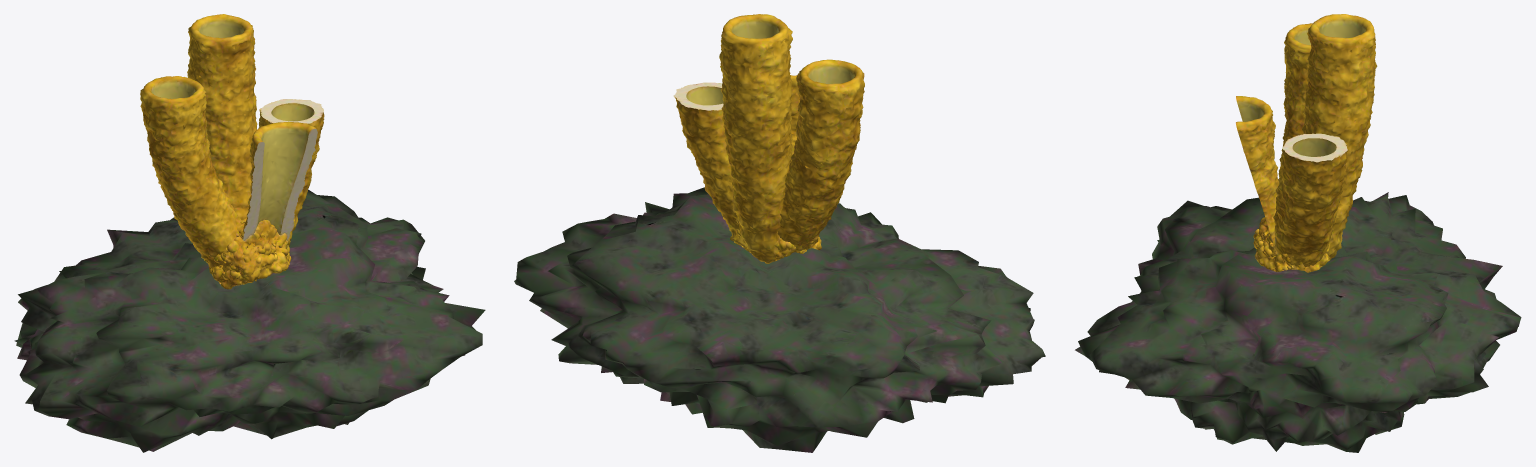
File: porifera-corte.glb
The picture shows the model from 3 angles, left to right: view 1: azimuth 30°, elevation 25°; view 2: azimuth 150°, elevation 25°; view 3: azimuth 270°, elevation 25°; orthographic projection. The views are drawn at different scales.
Visible parts, largest first — view 1: Roca, Esponja; view 2: Roca, Esponja; view 3: Roca, Esponja.
Part boxes in pixels (x1=…): Roca: x1=14, y1=189, x2=485, y2=452; Esponja: x1=140, y1=14, x2=324, y2=289; Roca: x1=514, y1=187, x2=1045, y2=452; Esponja: x1=673, y1=14, x2=864, y2=263; Roca: x1=1075, y1=192, x2=1521, y2=452; Esponja: x1=1236, y1=14, x2=1377, y2=272.
Size of the model in its own units: 1.24 by 0.9822 by 1.06.
Materials: 2 (2 with a texture image).
